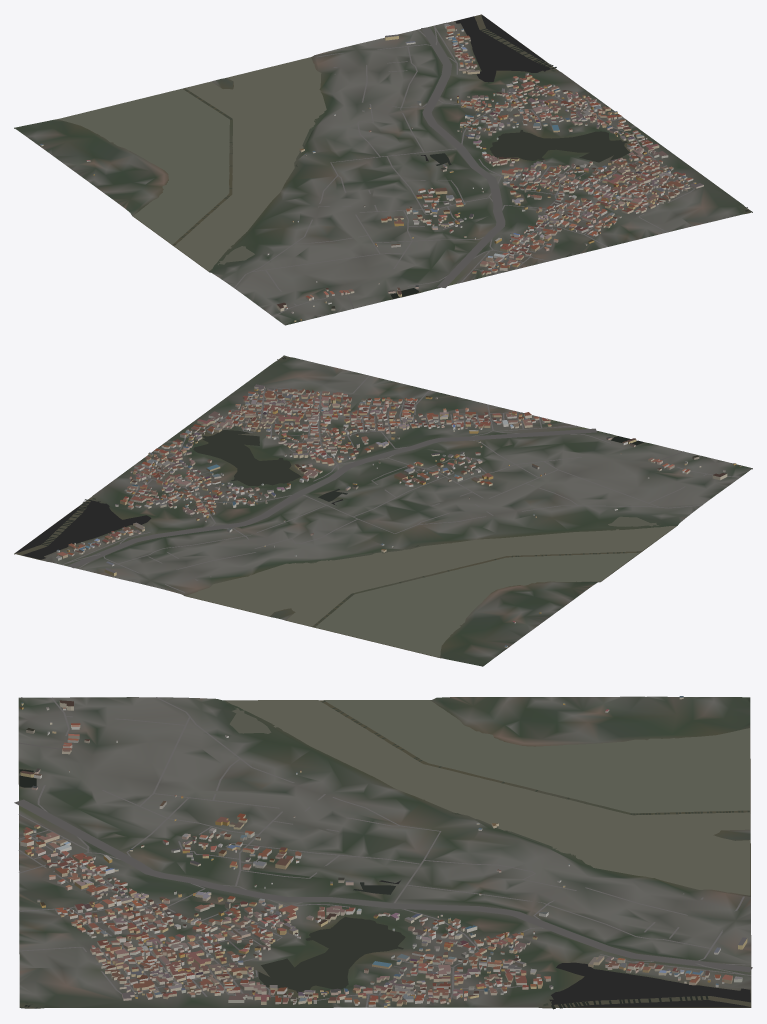
3 views of the same model, one above another, from view 1: azimuth 30°, elevation 25°; view 2: azimuth 150°, elevation 25°; view 3: azimuth 270°, elevation 25° (orthographic). The views are drawn at different scales.
Visible parts, largest first — view 1: ground, water, buildings, roads; view 2: ground, water, buildings, roads; view 3: ground, water, buildings, roads.
Part boxes in pixels (bbox=[...]): ground: bbox=[14, 14, 752, 325]; water: bbox=[57, 15, 748, 298]; buildings: bbox=[39, 23, 703, 321]; roads: bbox=[234, 25, 694, 324]; ground: bbox=[14, 355, 752, 666]; water: bbox=[15, 357, 675, 657]; buildings: bbox=[55, 384, 741, 647]; roads: bbox=[62, 375, 751, 592]; ground: bbox=[18, 696, 751, 1008]; water: bbox=[19, 700, 750, 1009]; buildings: bbox=[19, 696, 747, 1007]; roads: bbox=[14, 697, 752, 1007].
Size of the model in its own units: 1408 by 18.23 by 1416.
